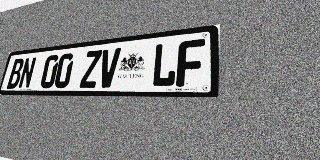0: (53, 53, 75, 88), (39, 54, 60, 88)
B: (6, 58, 25, 89)
F: (176, 39, 205, 87)
L: (150, 42, 178, 87)
N: (18, 57, 37, 89)
V: (97, 48, 121, 88)
Z: (79, 50, 102, 88)
